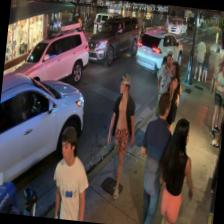person: (132, 88, 176, 224), (154, 117, 200, 224)
